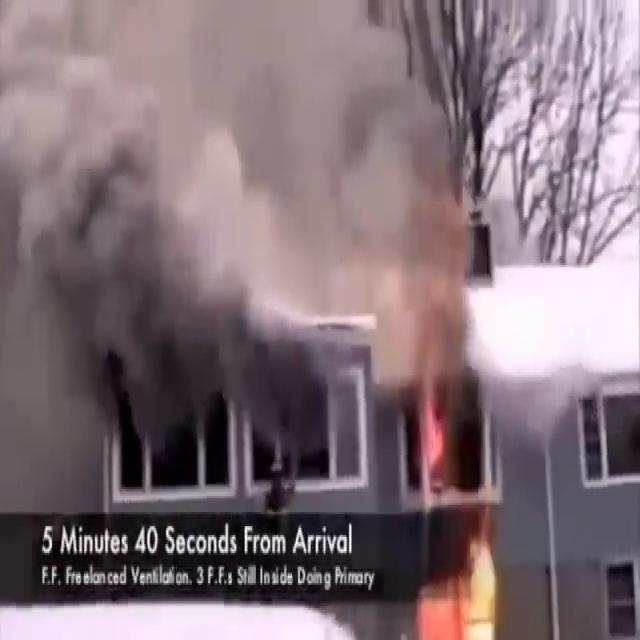Fire: (411, 522, 510, 640)
Smoke: (0, 1, 475, 487)
